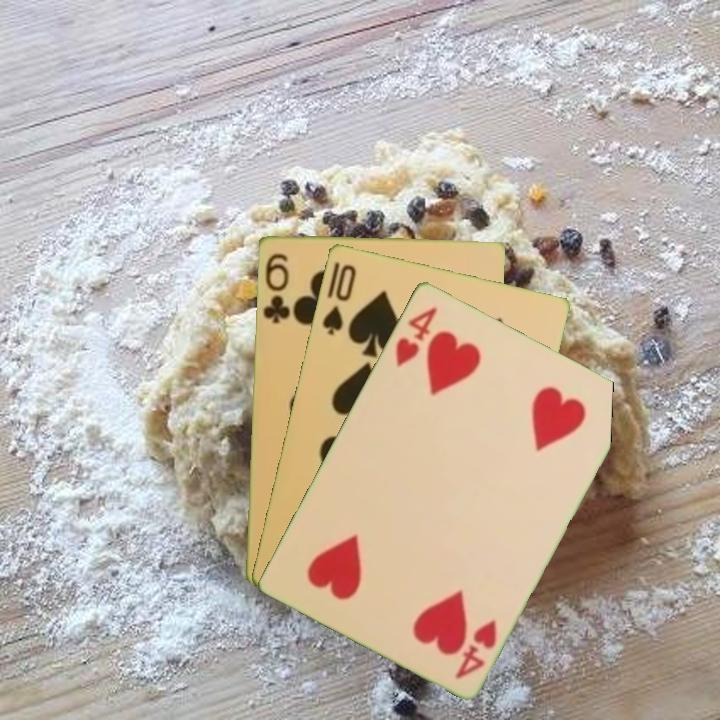10s: (318, 260, 359, 338)
4h: (391, 303, 441, 370), (451, 615, 500, 681)
6c: (259, 249, 292, 326)
